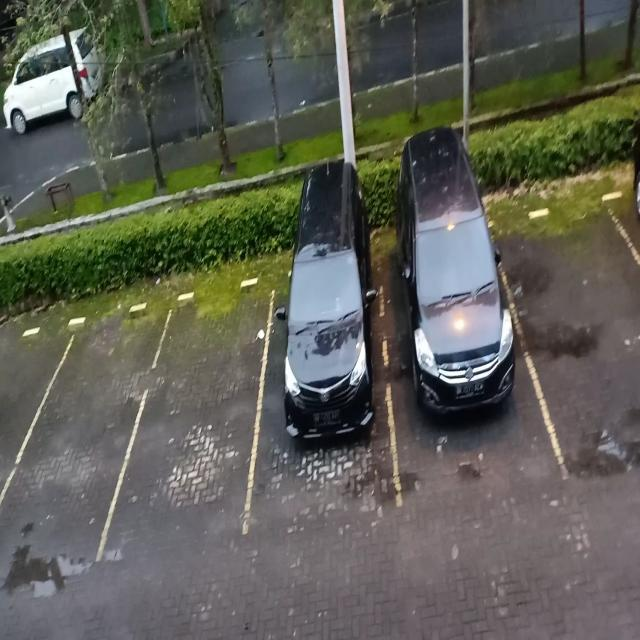empty: (520, 199, 640, 486), (136, 276, 260, 549), (28, 310, 136, 565)
occupied: (386, 182, 519, 511), (255, 235, 391, 536)
